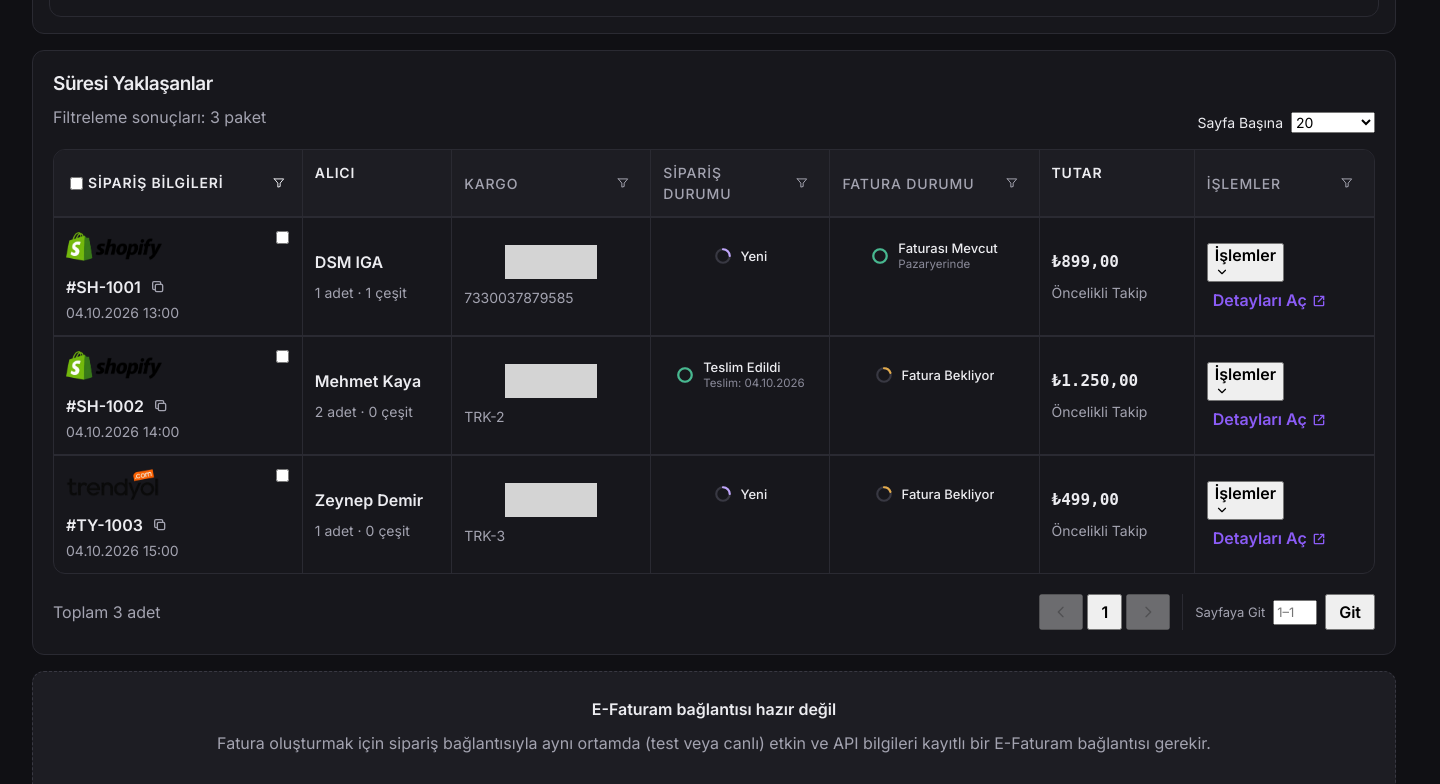
Test: InvoicesPage Shopify bulk invoice status › offers marketplace delivery when a manual invoice document already exists
(page scrolled)
What coordinates should you click on to do the following:
click the button with class "invoice-reference-actions-trigger" in the row of "#SH-1002"
I would click on:
 (1245, 381)
Its box is top-left (1207, 362), bottom-right (1284, 401).
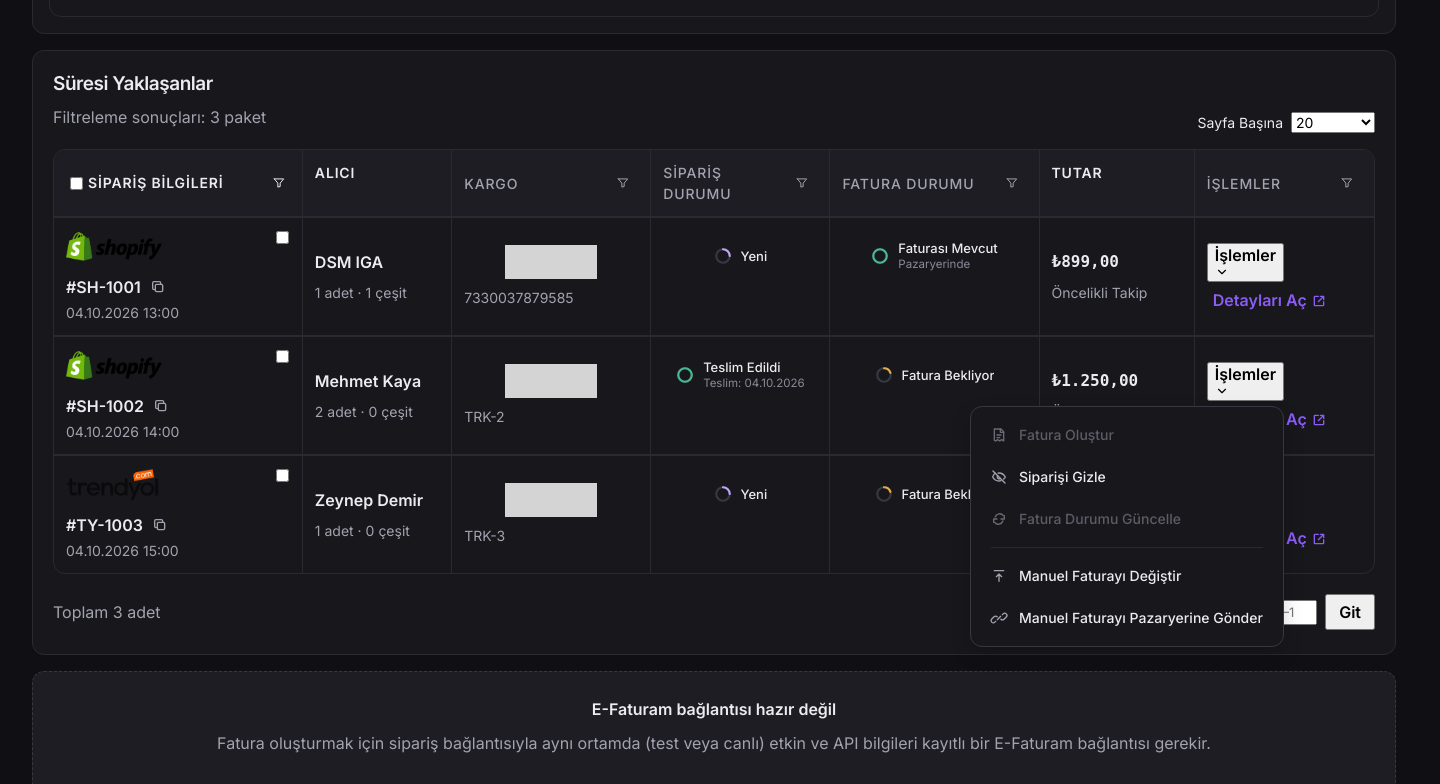
Now the menu item "Manuel Faturayı Pazaryerine Gönder" is shown
What coordinates should you click on to do the following:
click the menu item "Manuel Faturayı Pazaryerine Gönder"
I would click on:
 (1127, 618)
Its box is top-left (979, 598), bottom-right (1275, 638).
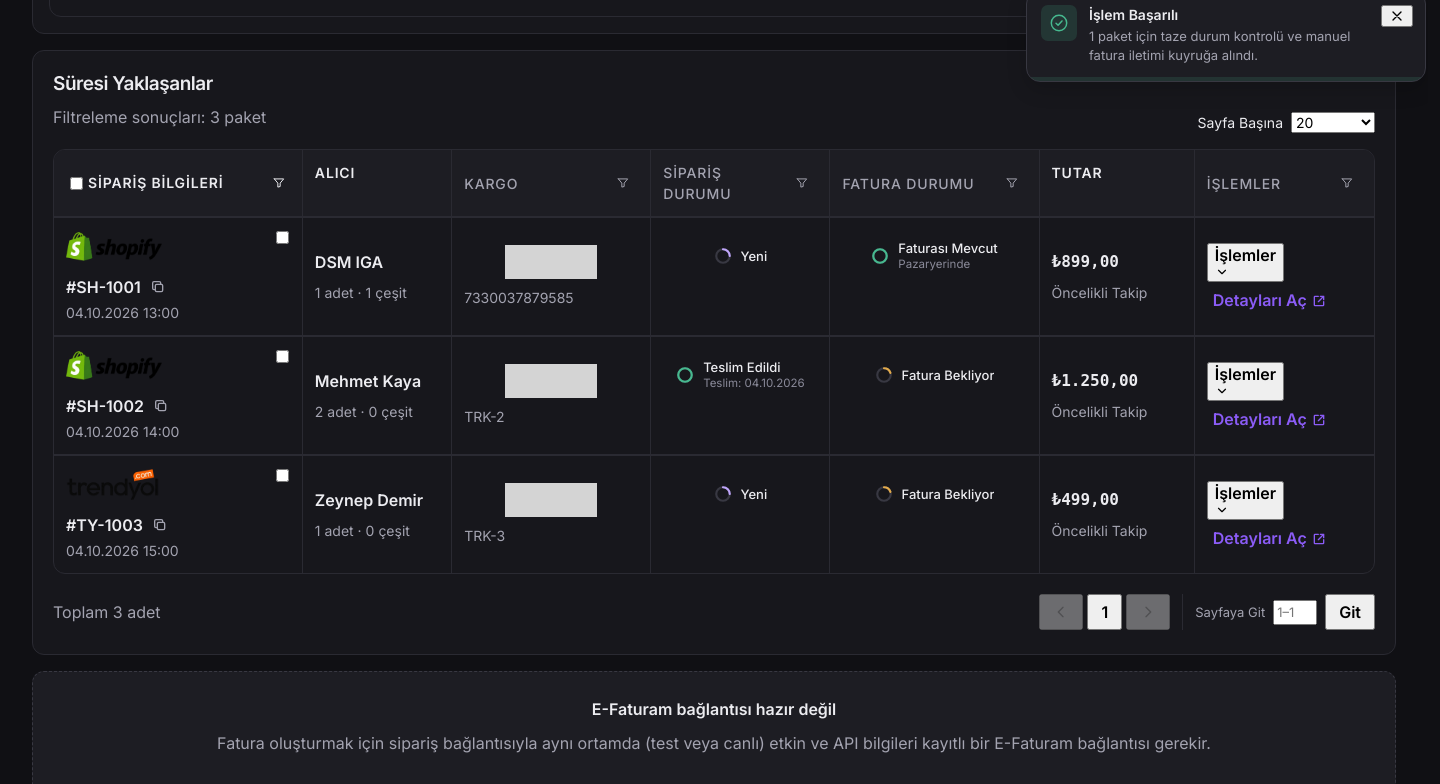
Now the text "1 paket için taze durum kontrolü ve manuel fatura iletimi kuyruğa alındı." is shown, box top-left (1089, 27), bottom-right (1369, 65)
